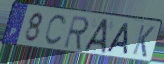8: (23, 12, 43, 44)
A: (83, 18, 110, 54), (105, 22, 130, 57)
C: (43, 14, 68, 48)
K: (131, 24, 156, 59)
R: (62, 15, 91, 52)
